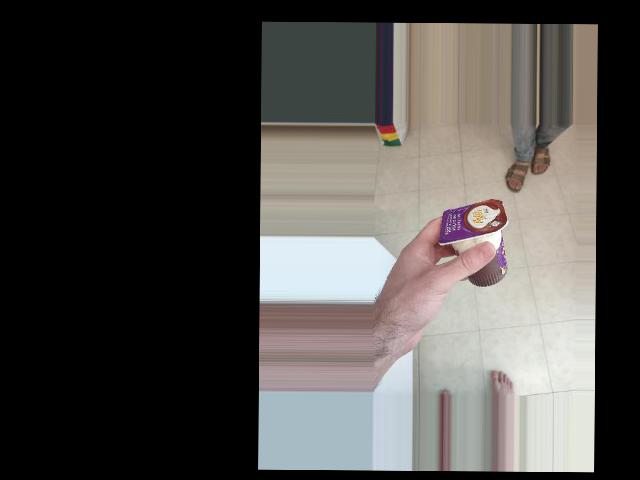milky: (453, 195, 540, 258)
